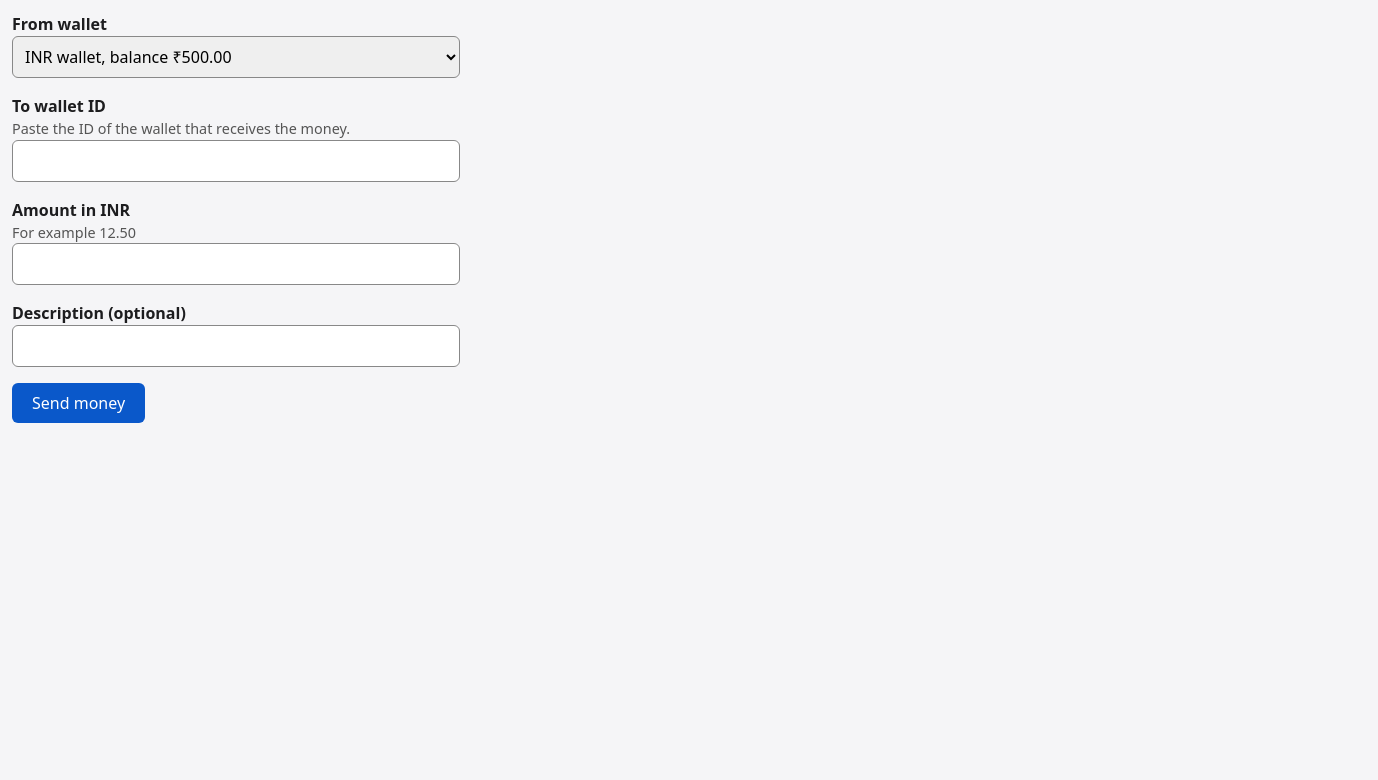
Scenario: TransferForm › maps server validation errors to the matching fields
Type "22222222-2222-4222-8222-222222222222" into the field labelled "To wallet ID" at point(236, 161), box [12,140,460,182]
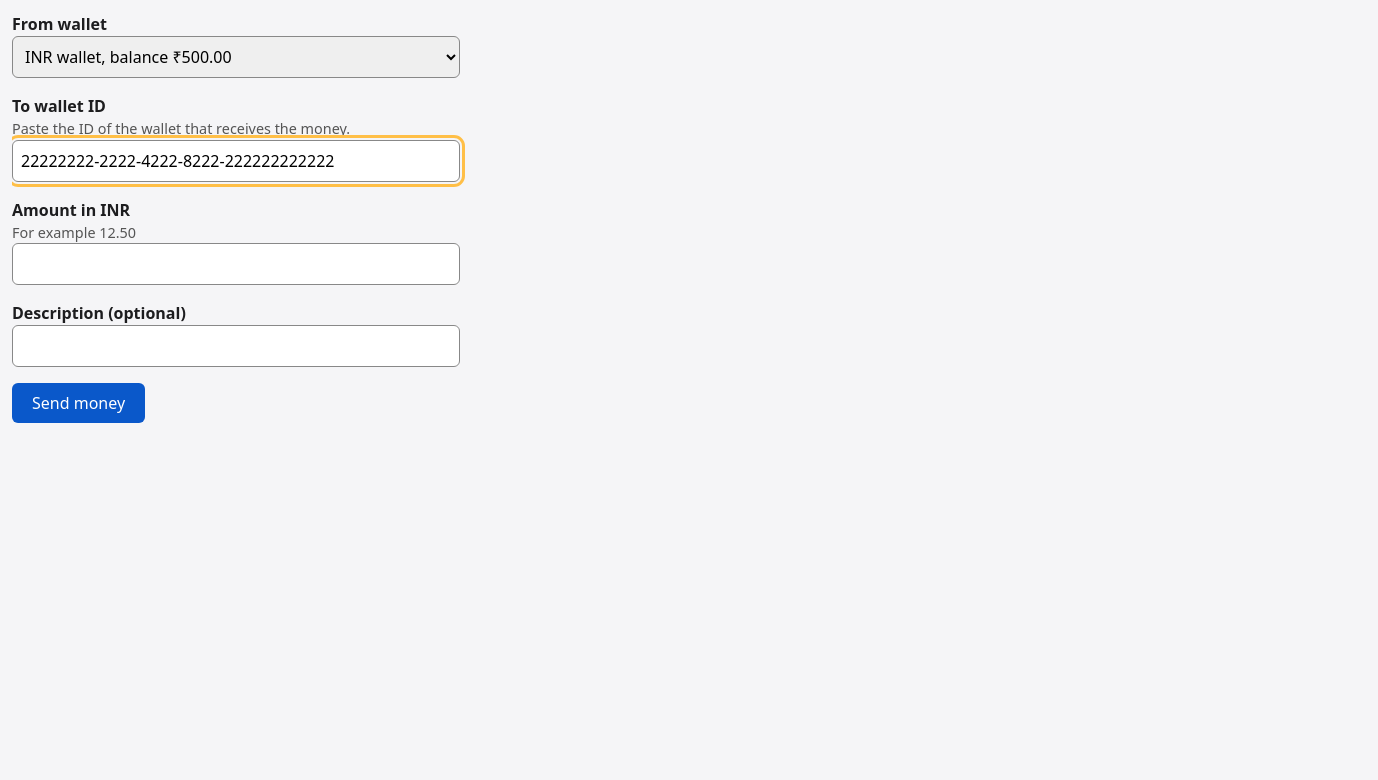
Type "12.50" into the field labelled "Amount in INR" at point(236, 264), box [12,243,460,285]
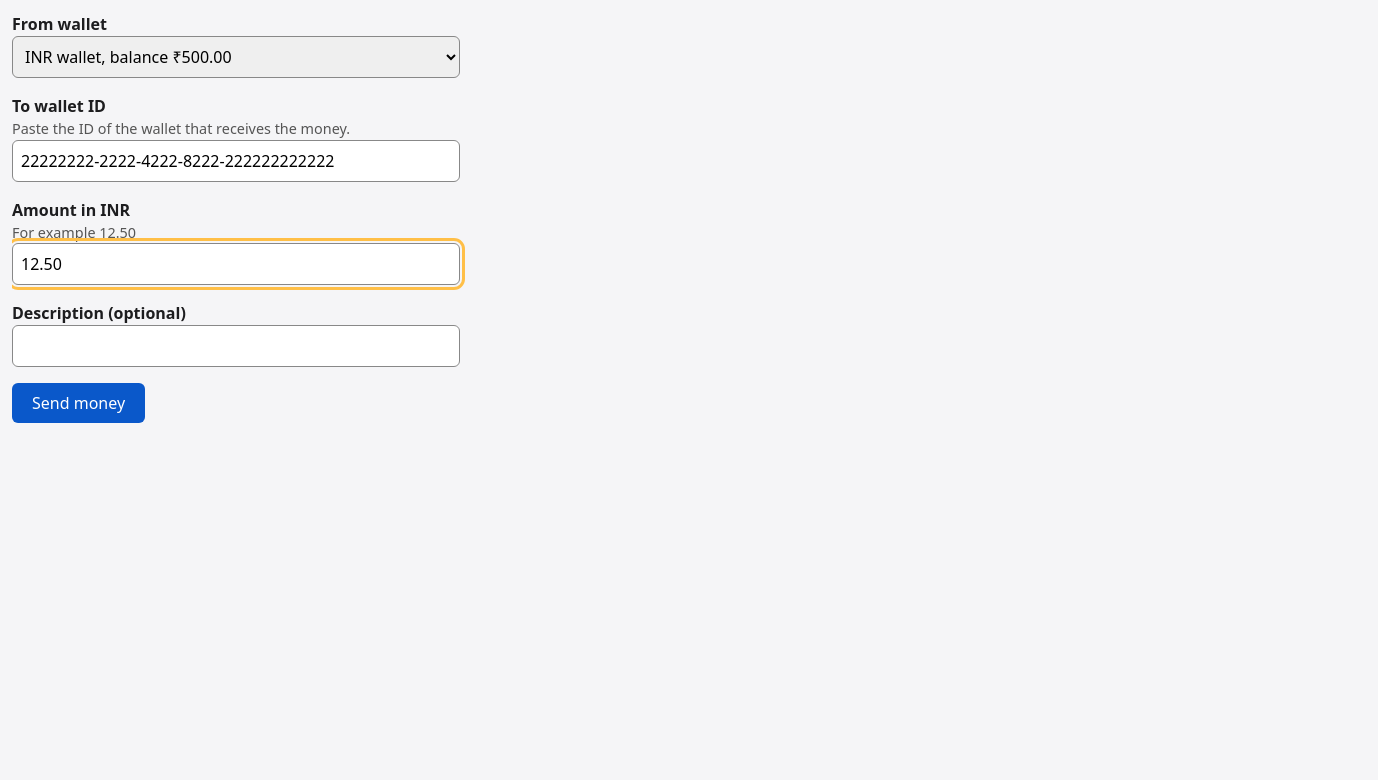
Click the button "Send money" at point(79, 403), box [12,383,145,423]
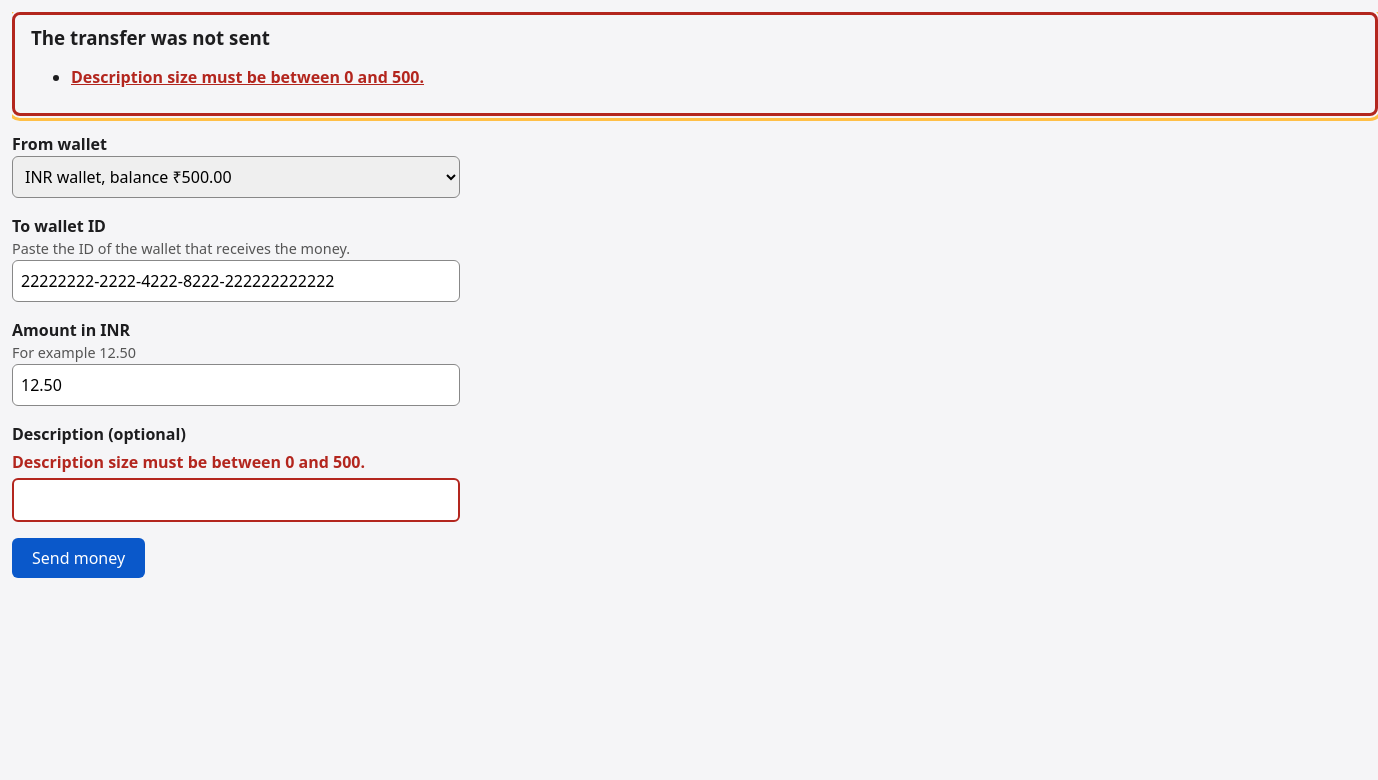
Now the message shows "Description size must be between 0 and 500.", box [71,66,424,88]
